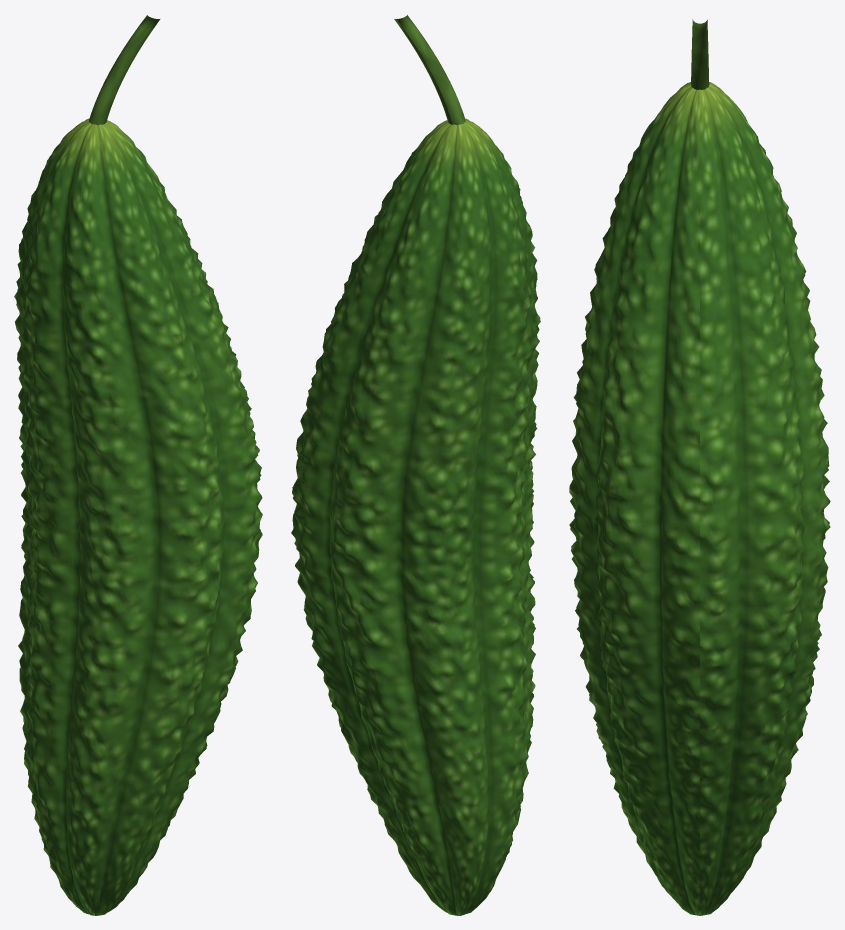
File: margoze.glb
3 views of the same model, side by side, from view 1: azimuth 30°, elevation 25°; view 2: azimuth 150°, elevation 25°; view 3: azimuth 270°, elevation 25° (orthographic). The views are drawn at different scales.
Parts seen in each view (by area): view 1: moitie_A_peau, entier_peau, moitie_B_peau, entier_extra0; view 2: moitie_B_peau, entier_peau, moitie_A_peau, entier_extra0; view 3: entier_peau, moitie_B_peau, moitie_A_peau, entier_extra0.
Part boxes in pixels (x1,y1,x2,y2): moitie_A_peau: [28, 121, 262, 915]; entier_peau: [14, 118, 262, 915]; moitie_B_peau: [15, 118, 166, 888]; entier_extra0: [89, 15, 160, 125]; moitie_B_peau: [291, 120, 526, 915]; entier_peau: [292, 120, 540, 915]; moitie_A_peau: [446, 118, 540, 910]; entier_extra0: [394, 15, 465, 125]; entier_peau: [569, 82, 830, 915]; moitie_B_peau: [700, 82, 830, 915]; moitie_A_peau: [570, 82, 699, 914]; entier_extra0: [691, 19, 709, 89].
Size of the model in its own units: 0.0583 by 0.2224 by 0.0568.
3 materials, 3 textured.
